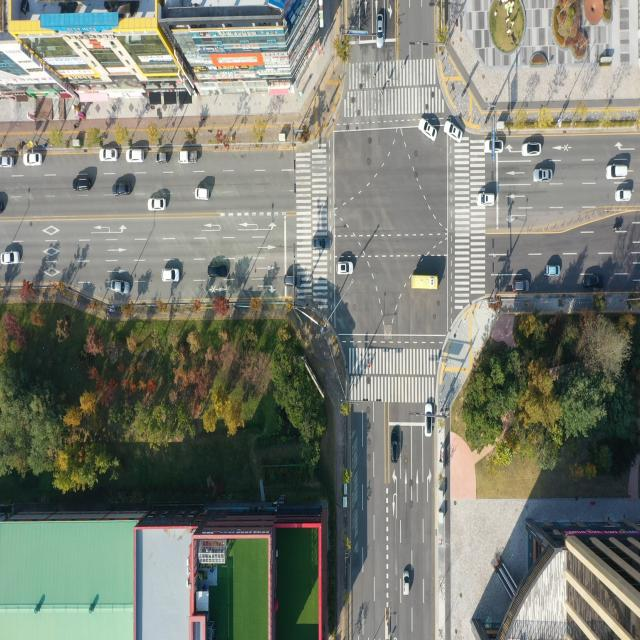car: (444, 122, 464, 143), (420, 118, 438, 140), (606, 164, 630, 180), (484, 138, 505, 154), (425, 402, 434, 438), (582, 274, 604, 288), (72, 177, 91, 193), (110, 280, 130, 295), (522, 141, 542, 156), (112, 182, 132, 197), (147, 198, 166, 213), (100, 147, 119, 162), (479, 191, 497, 206), (126, 149, 145, 163), (1, 251, 20, 265), (390, 432, 398, 464), (615, 188, 633, 202), (26, 152, 44, 166), (533, 169, 552, 182), (163, 270, 180, 284), (377, 12, 384, 46), (208, 264, 227, 276), (0, 156, 16, 170), (402, 570, 410, 598), (338, 262, 353, 276), (313, 238, 329, 251), (196, 187, 211, 200), (155, 152, 169, 165), (284, 276, 302, 286), (547, 266, 561, 278), (514, 281, 528, 293), (0, 197, 6, 216)
small_bus: (411, 274, 440, 291)
small_truck: (178, 150, 199, 165)
